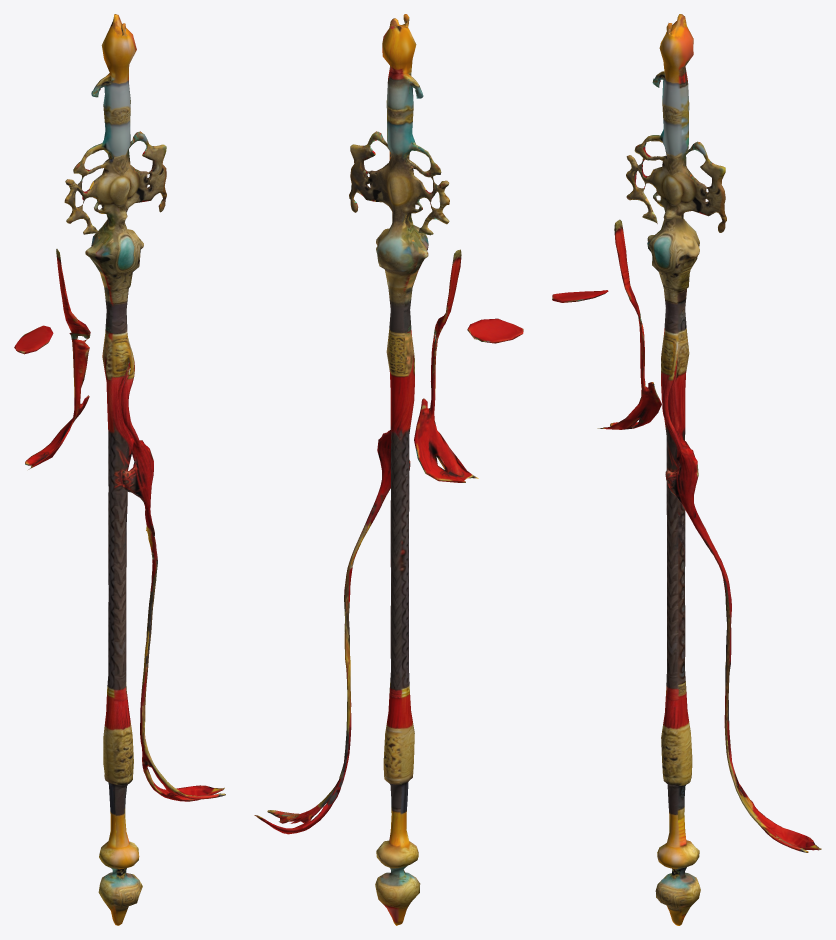
Rendered from 중국_판타지_서유_0728130627_texture.fbx.
3 renders of one model, left to right at view 1: azimuth 30°, elevation 25°; view 2: azimuth 150°, elevation 25°; view 3: azimuth 330°, elevation 25°, orthographic.
Visible parts, largest first — view 1: Mesh1.0; view 2: Mesh1.0; view 3: Mesh1.0.
Part boxes in pixels (x1,y1,x2,y2): Mesh1.0: (14, 14, 225, 925); Mesh1.0: (254, 14, 523, 925); Mesh1.0: (552, 14, 821, 925).
Size of the model in its own units: 53.86 by 196 by 17.69.
1 material, 1 textured.
